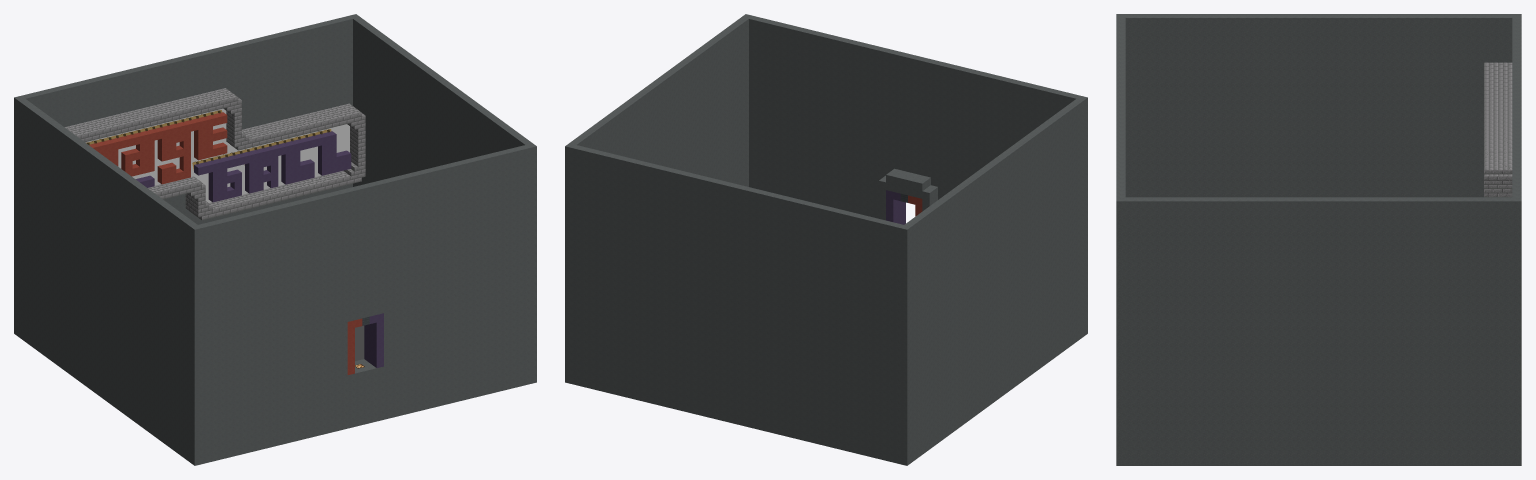
File: minecraft.obj
The picture shows the model from 3 angles, left to right: view 1: azimuth 30°, elevation 25°; view 2: azimuth 150°, elevation 25°; view 3: azimuth 270°, elevation 25°; orthographic projection. The views are drawn at different scales.
Size of the model in its own units: 47 by 31 by 43.
